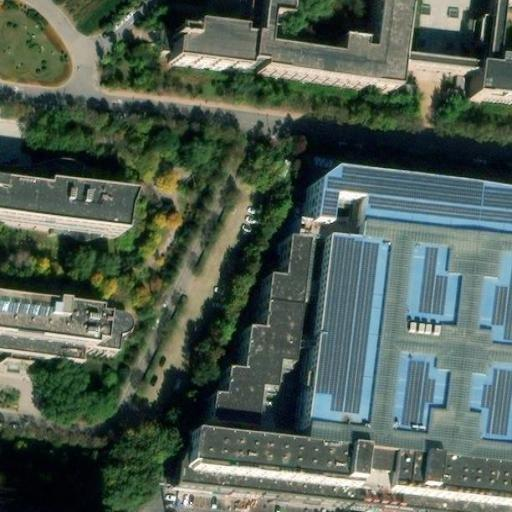building: (176, 181, 512, 512), (161, 0, 397, 99), (471, 0, 512, 104)
